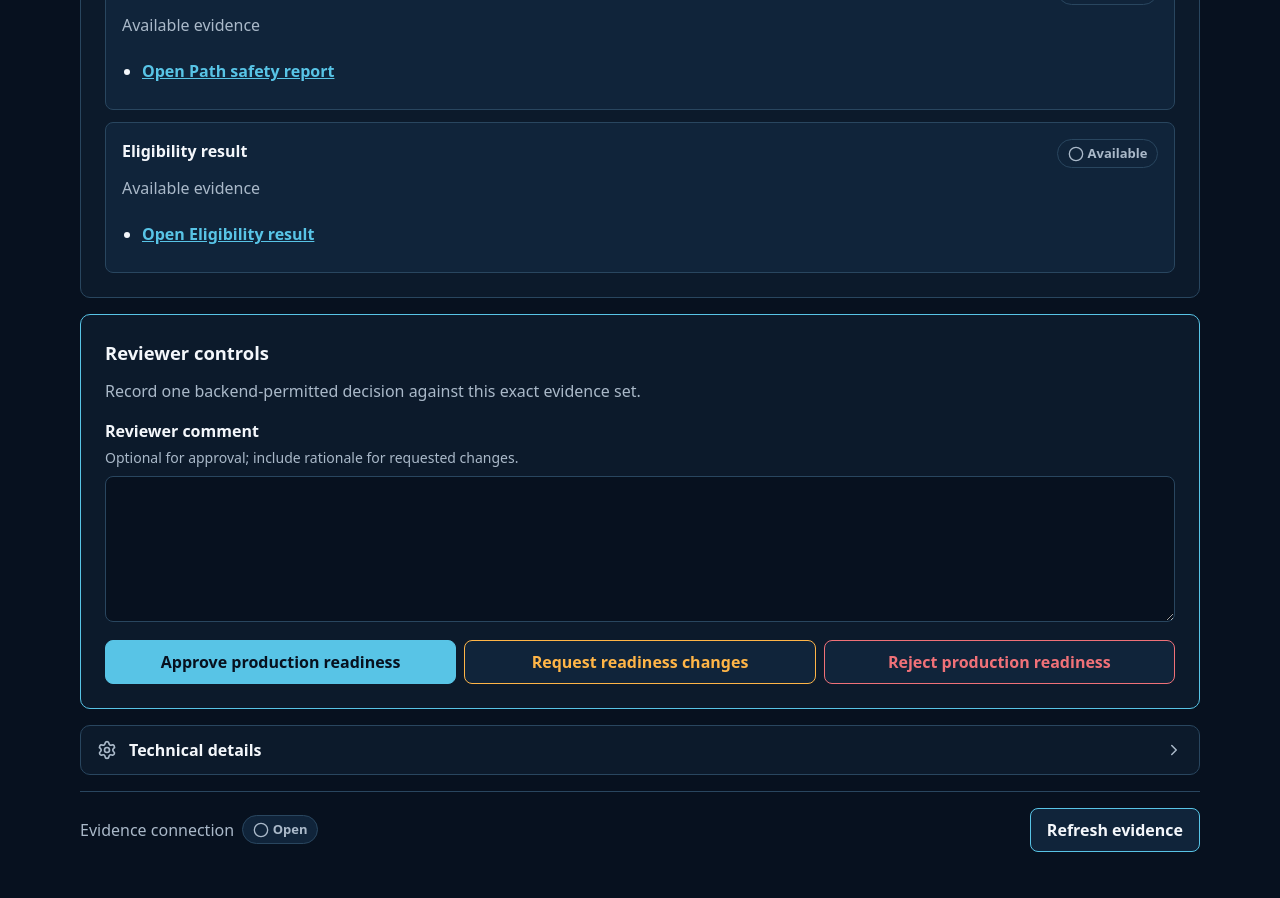
Test: G01ReviewPanel › ignores a successful response for a decision other than the submitted decision
(page scrolled)
Click the button "Approve production readiness". click: (281, 662)
box: [105, 640, 456, 684]
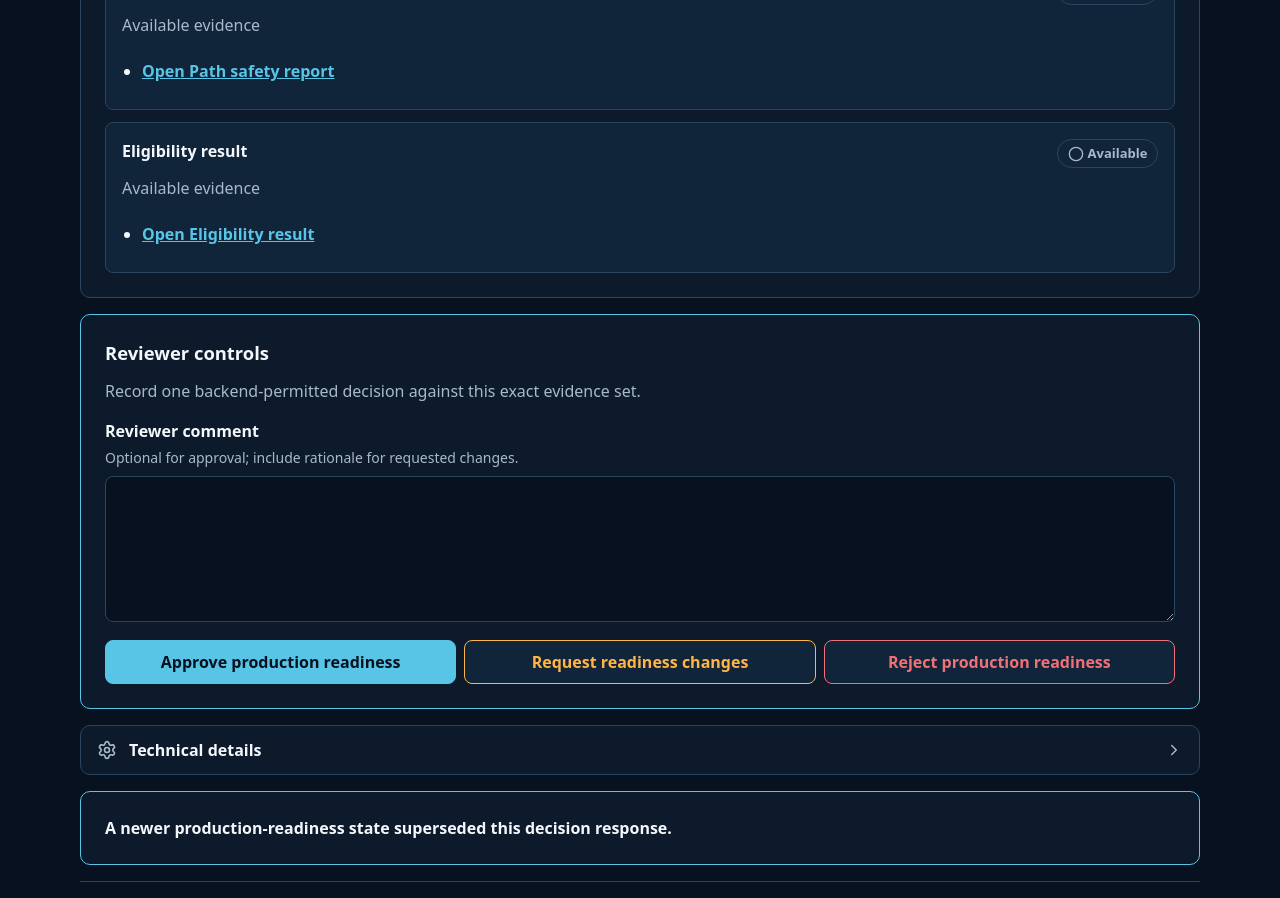
Now the text "A newer production-readiness state superseded this decision response." is shown, box [105, 817, 672, 839]
